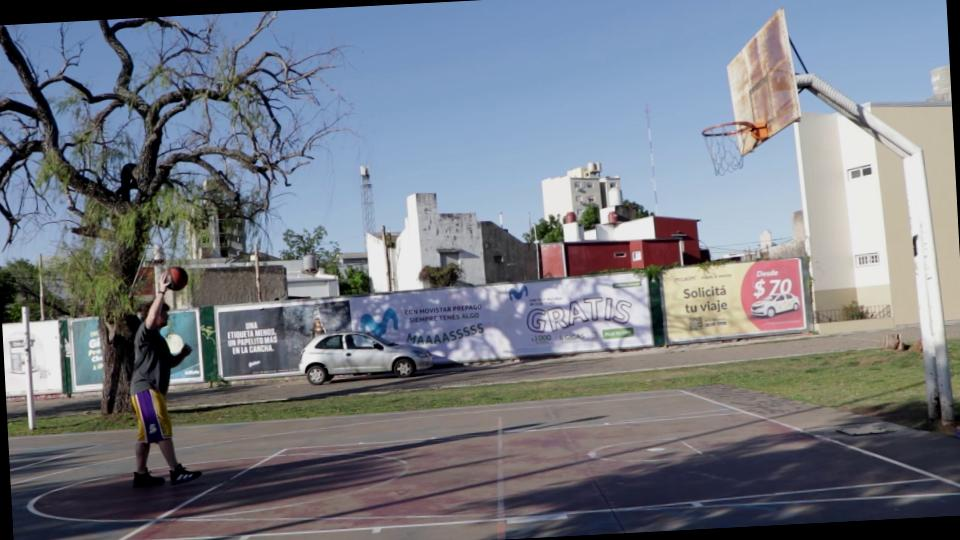hoop: (700, 120, 758, 138)
